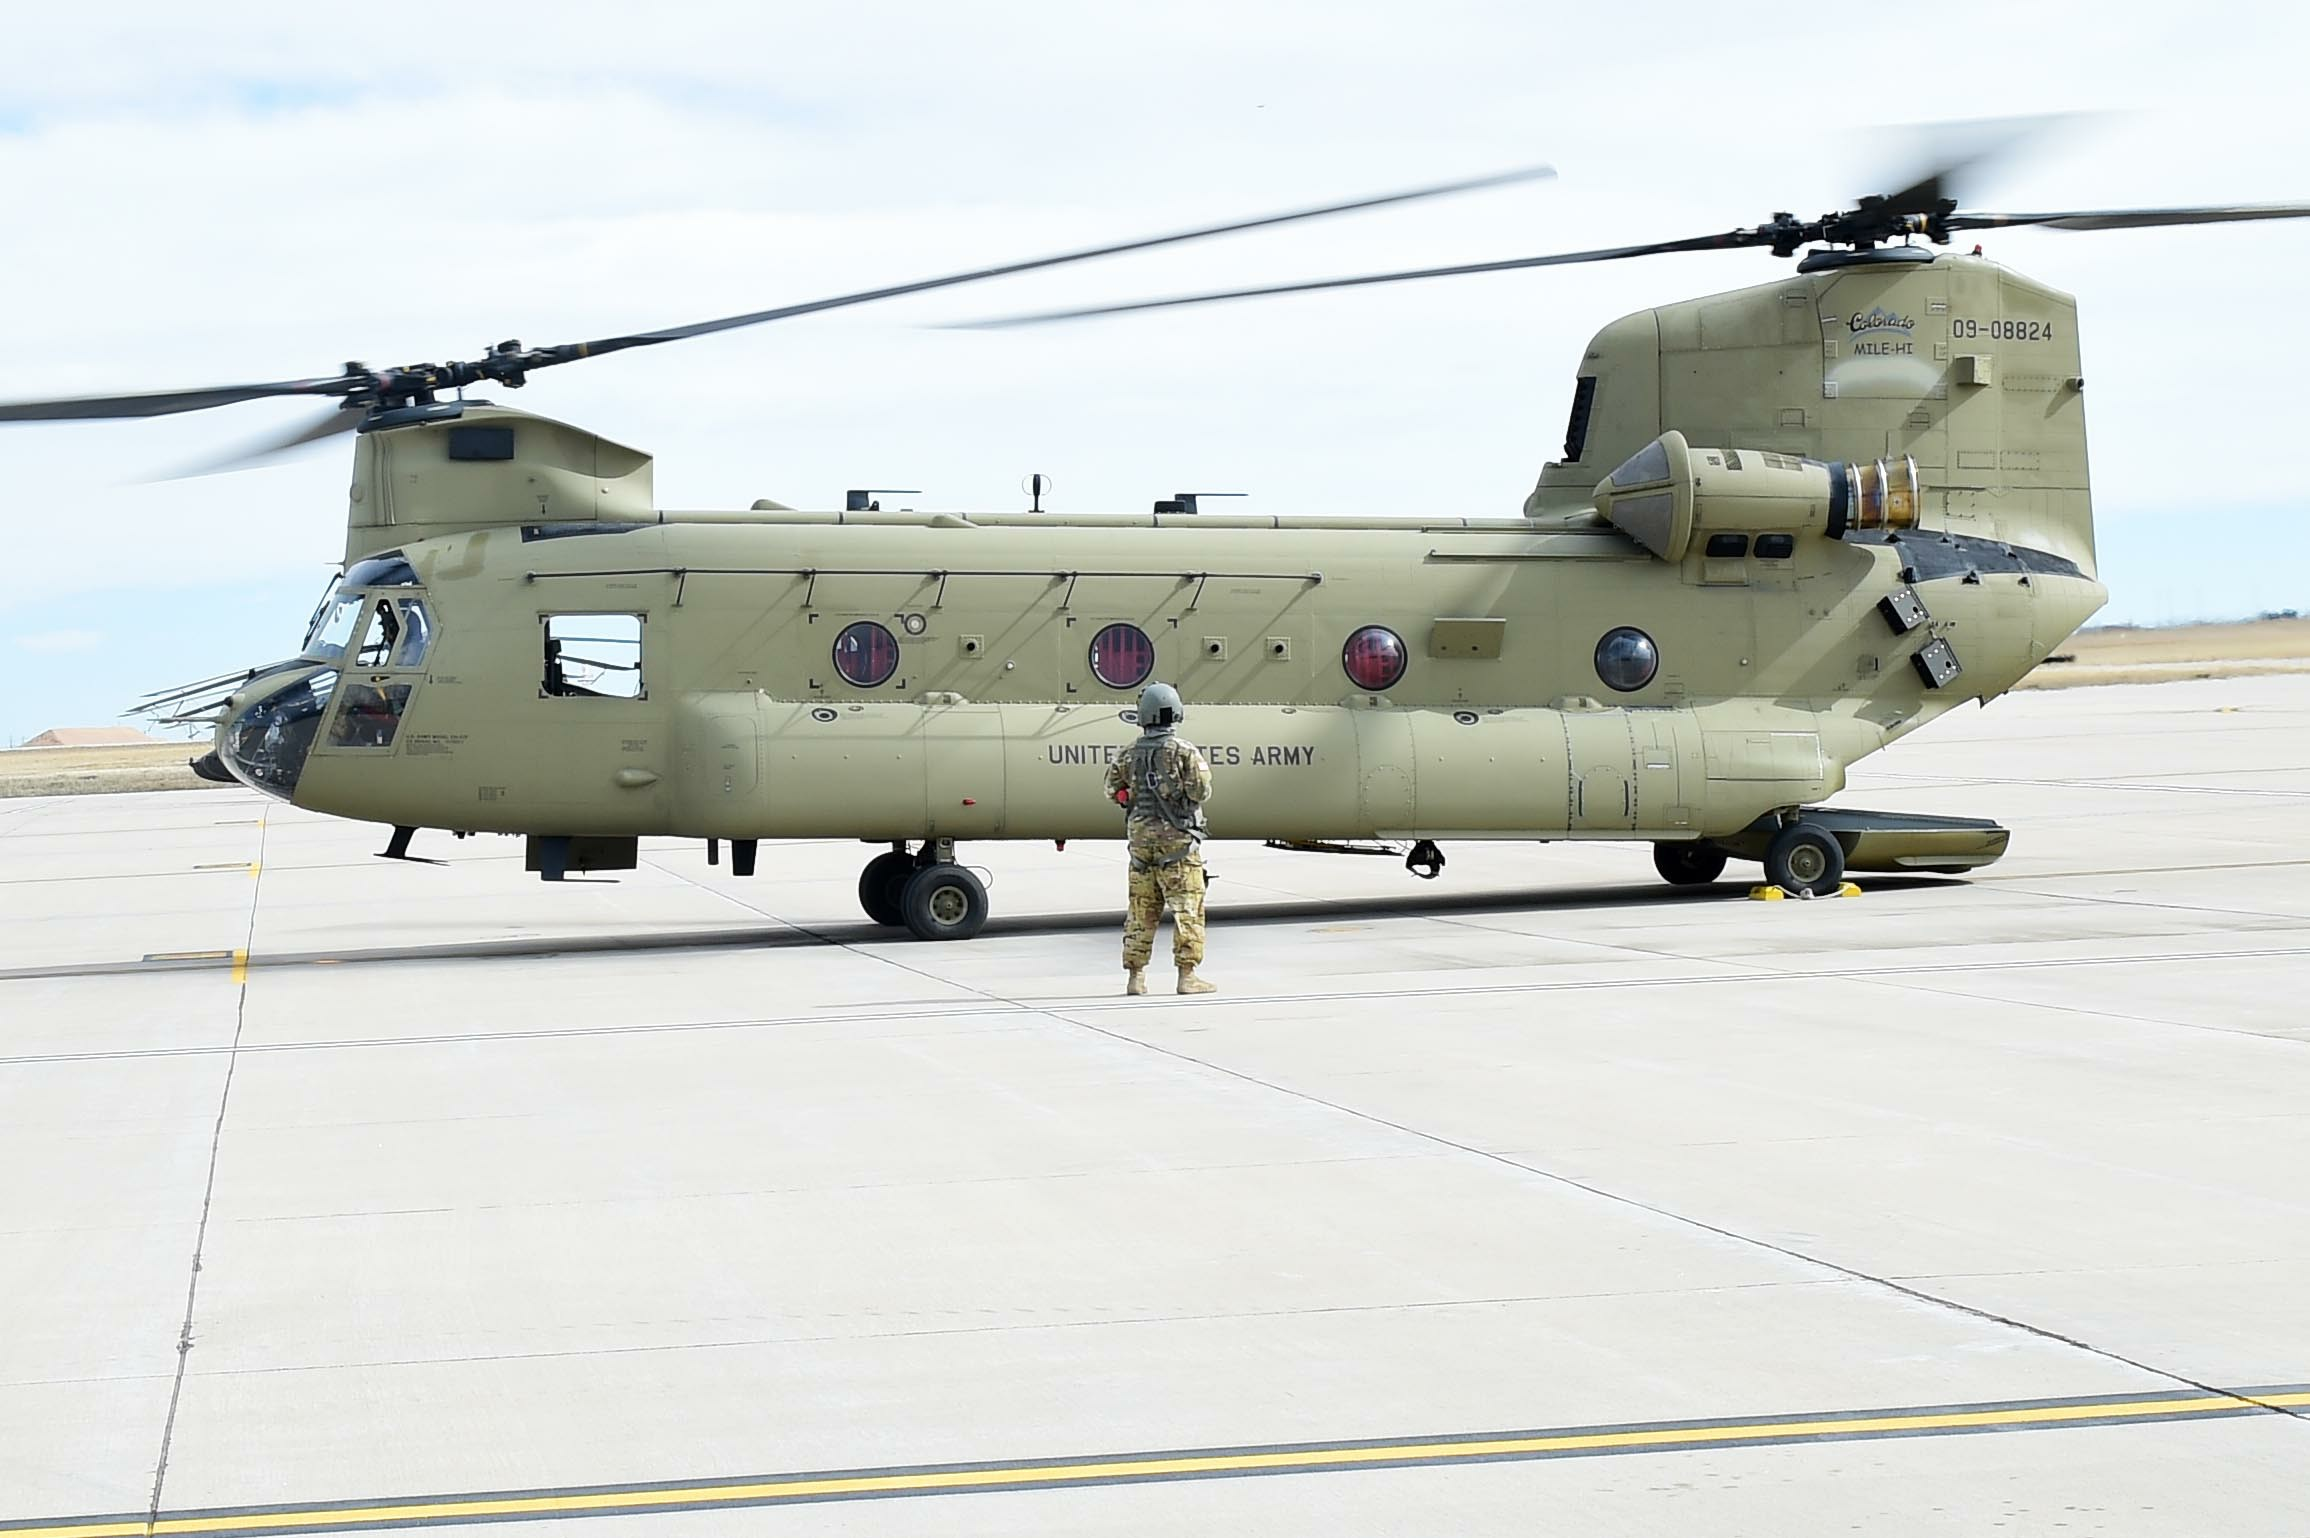chinook: (86, 129, 2300, 930)
